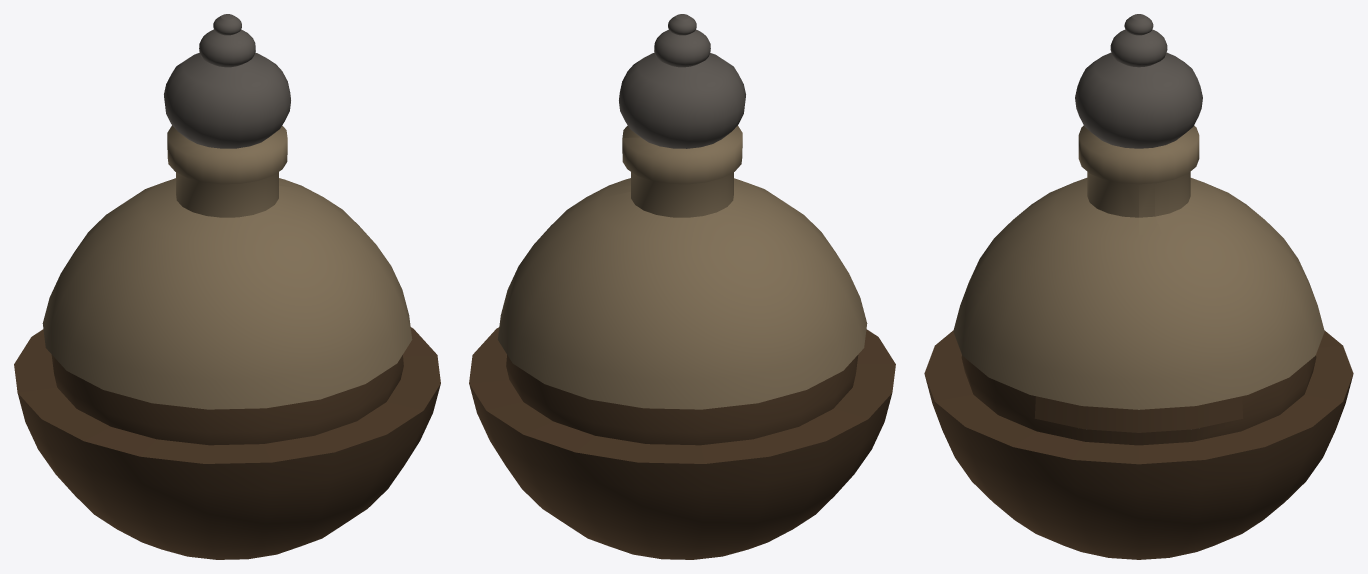
The model's file is TallSphere.fbx.
3 renders of one model, left to right at view 1: azimuth 30°, elevation 25°; view 2: azimuth 150°, elevation 25°; view 3: azimuth 270°, elevation 25°, orthographic.
Visible parts, largest first — view 1: Sphere1; view 2: Sphere1; view 3: Sphere1.
Boxes of the visible parts, bbox=[...] form: Sphere1: bbox=[14, 14, 440, 559]; Sphere1: bbox=[469, 14, 895, 559]; Sphere1: bbox=[924, 14, 1353, 559].
Size of the model in its own units: 7.12 by 9.59 by 7.12.
